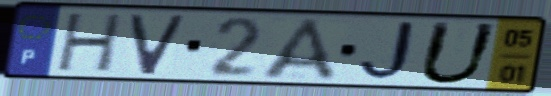2: (209, 15, 265, 79)
A: (257, 16, 342, 83)
H: (52, 12, 127, 75)
J: (356, 19, 425, 84)
U: (413, 19, 503, 87)
V: (126, 12, 191, 77)
